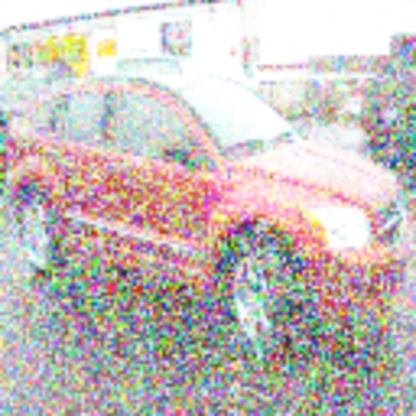Vehicle: (5, 71, 414, 362)
